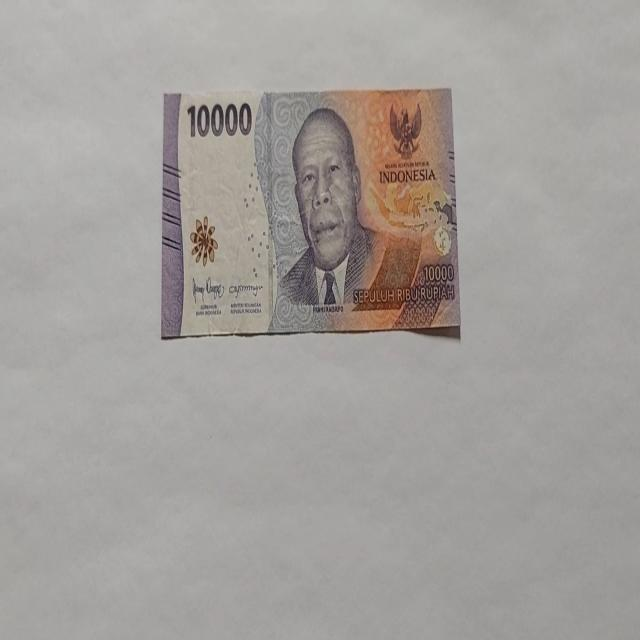sepuluh ribu rupiah: (161, 86, 461, 340), (266, 105, 422, 332)
